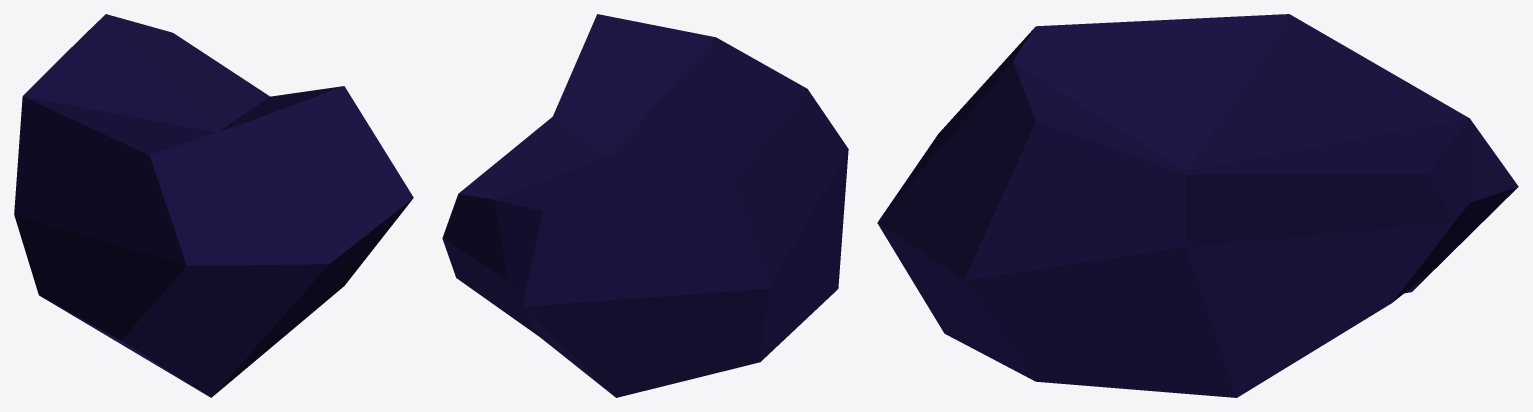
File: Iron.fbx
3 renders of one model, left to right at view 1: azimuth 30°, elevation 25°; view 2: azimuth 150°, elevation 25°; view 3: azimuth 270°, elevation 25°, orthographic. The views are drawn at different scales.
Visible parts, largest first — view 1: IronOre; view 2: IronOre; view 3: IronOre.
Boxes of the visible parts, x1,y1,x2,y2 form: IronOre: (14,14,413,397); IronOre: (442,14,848,397); IronOre: (877,14,1518,397).
Size of the model in its own units: 211 by 173 by 315.
